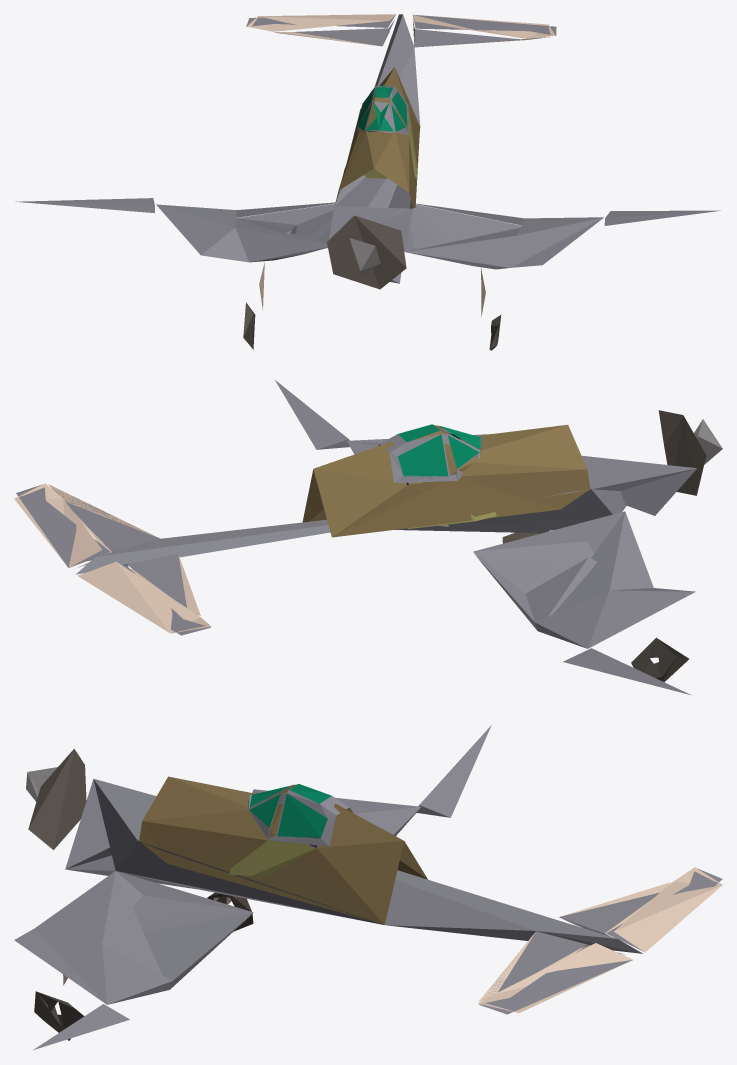
3 views of the same model, one above another, from view 1: azimuth 30°, elevation 25°; view 2: azimuth 150°, elevation 25°; view 3: azimuth 270°, elevation 25° (orthographic). The views are drawn at different scales.
Visible parts, largest first — view 1: kabina-FACES, kabina01-FACES; view 2: kabina01-FACES, kabina-FACES; view 3: kabina01-FACES, kabina-FACES.
Part boxes in pixels (<box>): kabina-FACES: <box>15,14,720,283</box>; kabina01-FACES: <box>243,14,556,350</box>; kabina01-FACES: <box>14,410,722,682</box>; kabina-FACES: <box>76,380,696,695</box>; kabina01-FACES: <box>26,749,722,1040</box>; kabina-FACES: <box>14,725,642,1049</box>.
Bounding box in the file's own units: 8.32 × 2.84 × 7.42.
